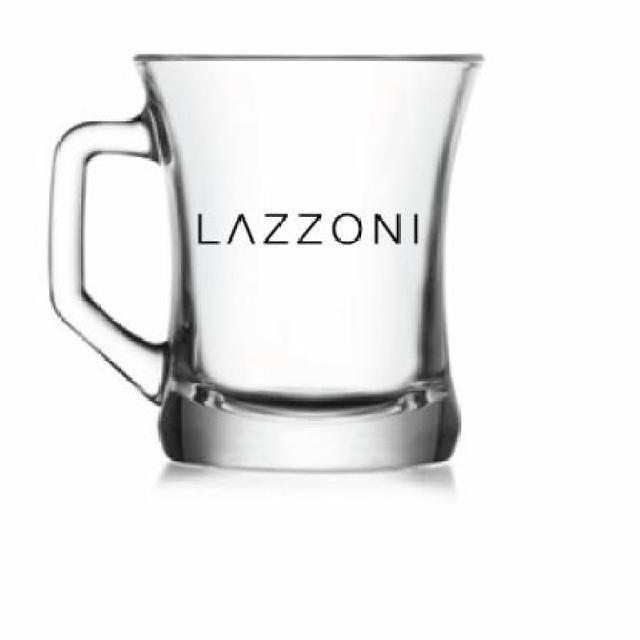taza: (51, 53, 486, 476)
